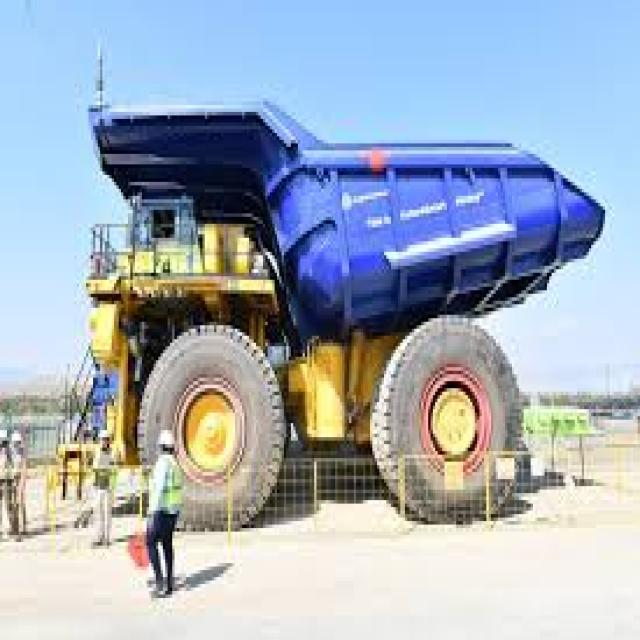dump_truck: (70, 77, 600, 556)
